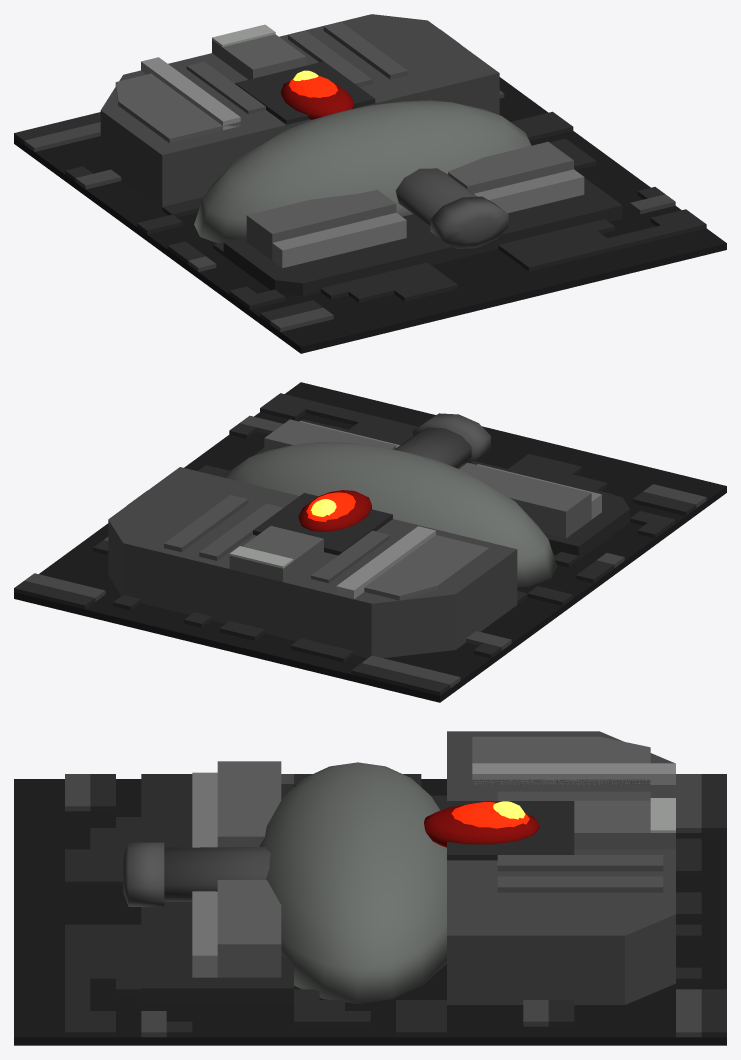
The model's file is newsh-caret-45.glb.
3 views of the same model, one above another, from view 1: azimuth 30°, elevation 25°; view 2: azimuth 150°, elevation 25°; view 3: azimuth 270°, elevation 25° (orthographic). The views are drawn at different scales.
Visible parts, largest first — view 1: newsh-caret-45; view 2: newsh-caret-45; view 3: newsh-caret-45.
Part boxes in pixels (x1,y1,x2,y2): newsh-caret-45: (14,14,726,353); newsh-caret-45: (14,382,726,702); newsh-caret-45: (14,731,726,1045).
Bounding box in the file's own units: 2 × 0.39 × 2.33.
